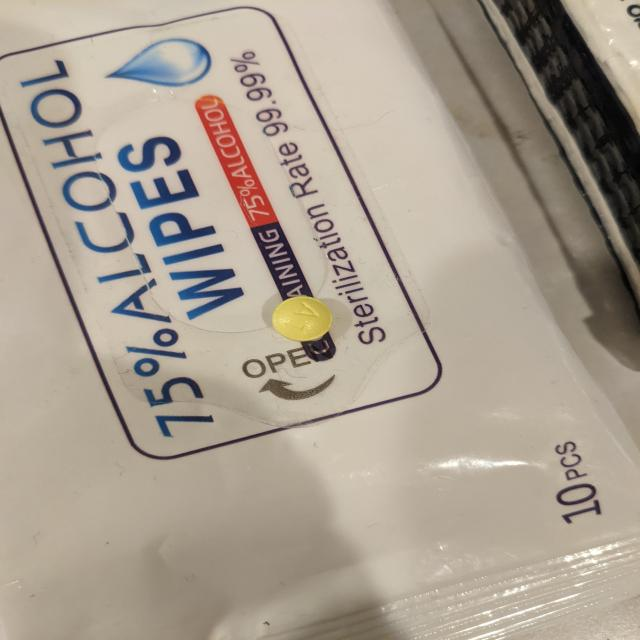non-organic waste: (271, 296, 333, 342)
